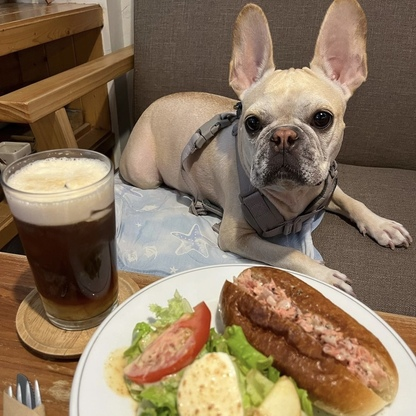bulldog: (116, 1, 416, 299)
